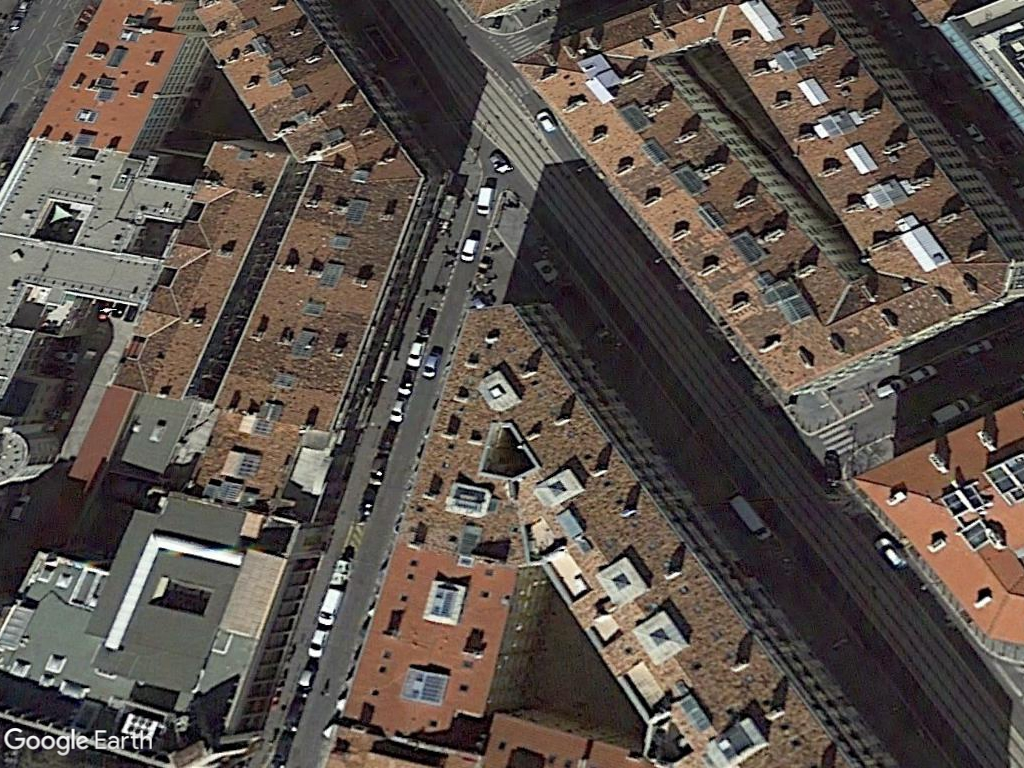car: (532, 108, 560, 136)
van: (721, 483, 778, 549), (474, 179, 495, 221), (459, 234, 480, 265)
